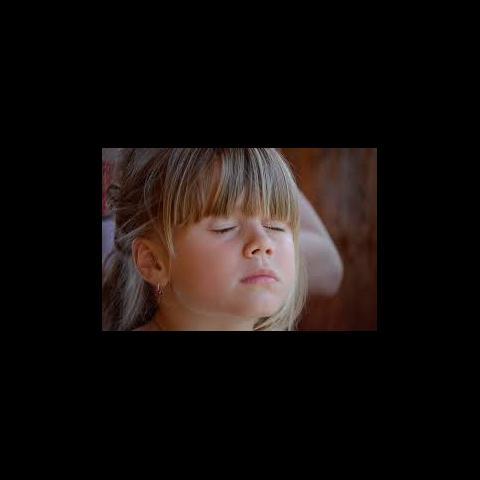closed: (198, 202, 304, 246)
